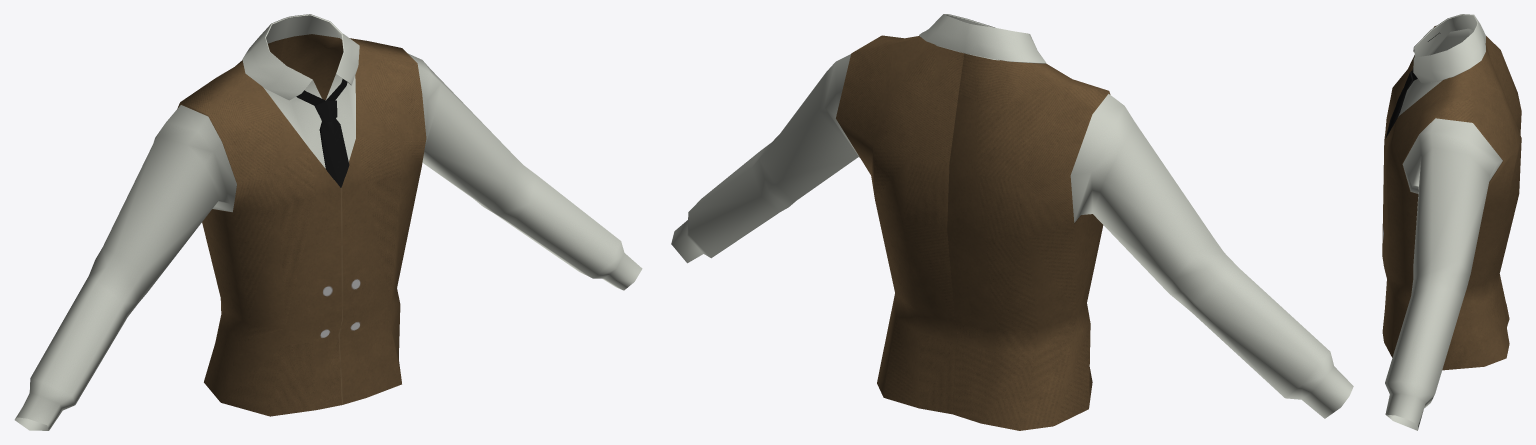
The model's file is MaleShirt2.fbx.
3 views of the same model, side by side, from view 1: azimuth 30°, elevation 25°; view 2: azimuth 150°, elevation 25°; view 3: azimuth 270°, elevation 25° (orthographic). The views are drawn at different scales.
Parts seen in each view (by area): view 1: MaleCloth1; view 2: MaleCloth1; view 3: MaleCloth1.
Boxes of the visible parts, x1=… form: MaleCloth1: x1=14, y1=14, x2=642, y2=430; MaleCloth1: x1=671, y1=14, x2=1353, y2=430; MaleCloth1: x1=1382, y1=14, x2=1521, y2=430.
Size of the model in its own units: 10.56 by 5.66 by 2.31.
